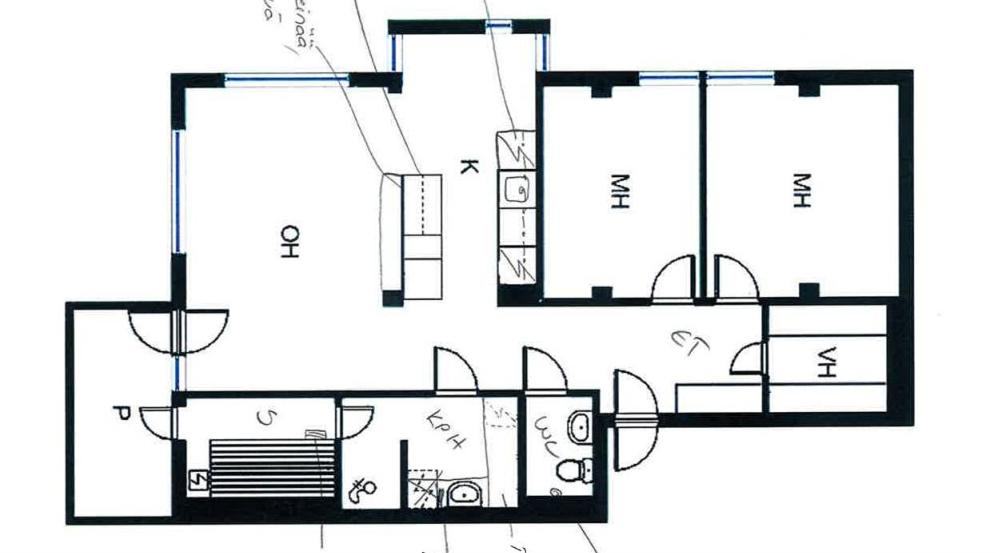bathroom: (523, 390, 595, 498)
door: (610, 415, 664, 477), (123, 308, 187, 358), (707, 250, 762, 308), (649, 252, 703, 310), (612, 365, 661, 426), (428, 344, 481, 400), (173, 308, 231, 355), (519, 343, 568, 398), (726, 339, 774, 379), (133, 404, 183, 442), (330, 403, 378, 441)
perimeter: (167, 16, 913, 527)
window: (217, 67, 353, 91), (166, 124, 189, 260), (698, 68, 781, 92), (630, 65, 705, 88), (168, 352, 191, 396), (533, 29, 554, 76), (386, 29, 406, 78), (478, 15, 519, 34)
